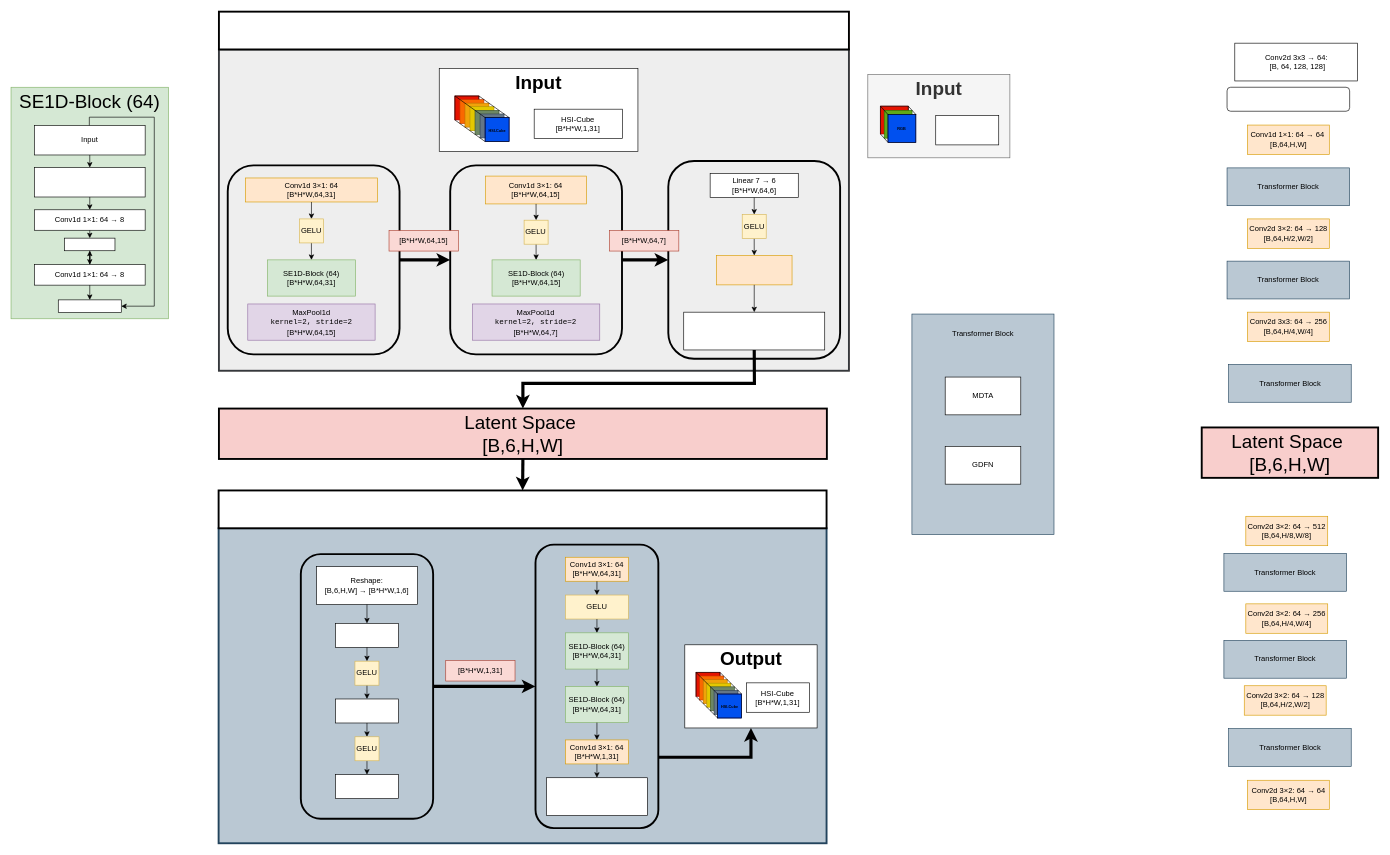
Image size: 1390x855. Some labels were removed from this diagram. The shapes that lost their labels are listed below. From the top down, each one's centre as x and y in pixels, then its label:
At pixel 534 30: "Teacher Encoder".
At pixel 1288 99: "UNET".
At pixel 967 130: "RGB [B,3,H,W]".
At pixel 89 182: "AdaptiveAvgPool1d(1)".
At pixel 89 244: "ReLU".
At pixel 754 270: "Conv1d 3×1: 64 → 1 [B*H*W,1,6]".
At pixel 89 305: "Sigmoid".
At pixel 754 331: "Reshape: [B*H*W,1,6] → [B,6,H,W]".
At pixel 522 509: "Teacher Decoder".
At pixel 366 635: "Linear 6 → 64 [B*H*W,1,64]".
At pixel 366 710: "Linear 64 → 64 [B*H*W,1,64]".
At pixel 366 786: "Linear 64 → 31 [B*H*W,1,31]".
At pixel 596 796: "Reshape: [B*H*W,1,31] → [B,31,H,W]".
